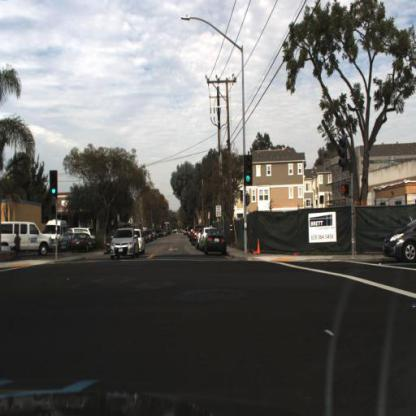car: (1, 215, 56, 253), (383, 213, 416, 264), (382, 217, 415, 264), (43, 216, 73, 252), (110, 228, 141, 260), (204, 226, 229, 255), (70, 232, 96, 254), (131, 228, 146, 255), (199, 227, 211, 254)
pedestrian: (13, 231, 23, 261)
trafficLight: (243, 152, 254, 186), (50, 170, 59, 198)
trafficLight-Red: (341, 183, 351, 200)
truck: (1, 220, 54, 257), (43, 218, 73, 252), (70, 226, 96, 242)
